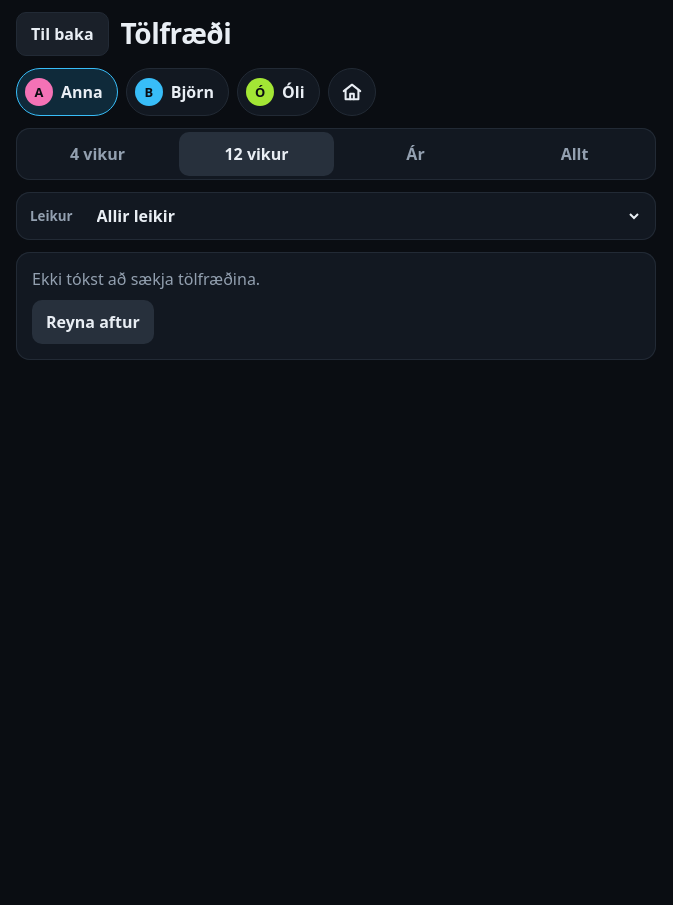
Test: StatsScreen › offers to try again when the stats fail to load
The image size is (673, 905).
Expected: the message shows "Ekki tókst að sækja tölfræðina.", [32,268,260,290]
Click the button "Reyna aftur" at (93, 322), box [32,300,154,344]
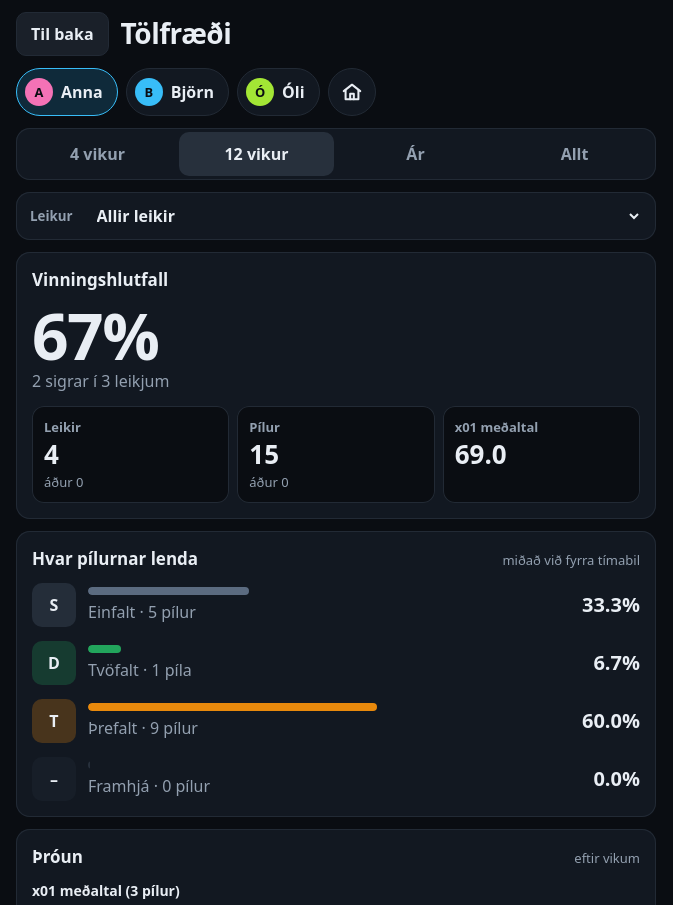
Expected: the element "Vinningshlutfall" is shown, [16,252,656,519]
